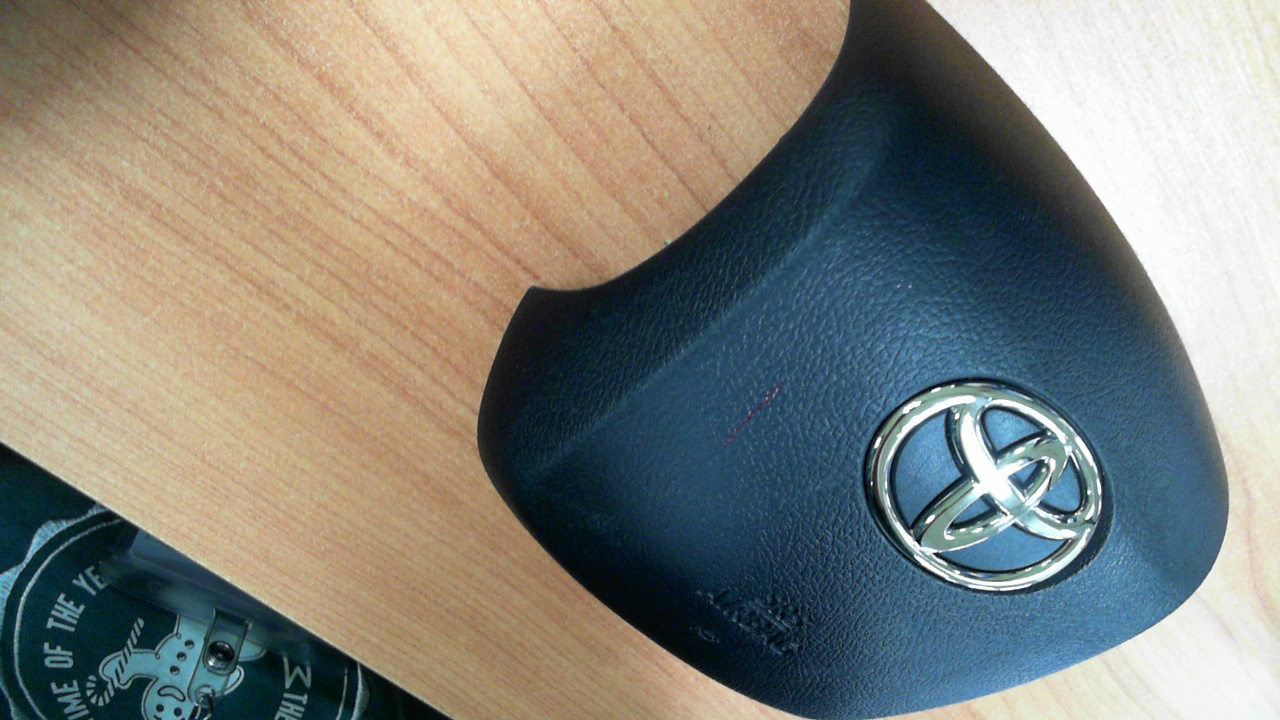Airbag: (475, 3, 1230, 716)
Toyota: (862, 382, 1103, 592)
